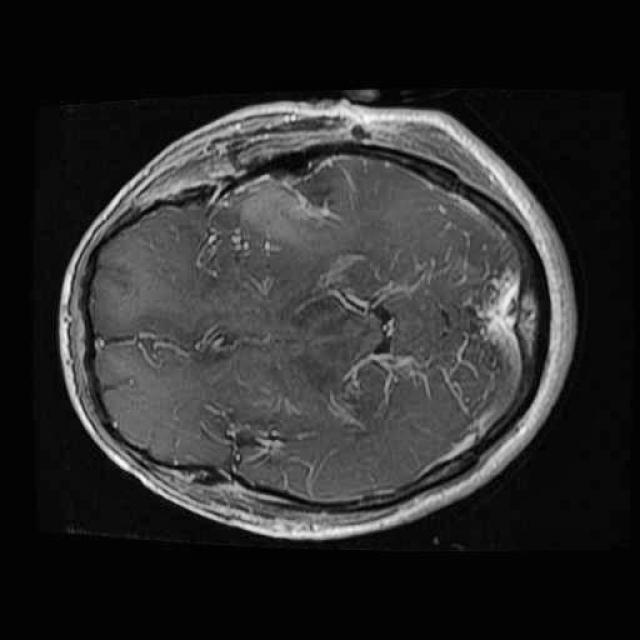Non-Tumor: (225, 144, 366, 246)
